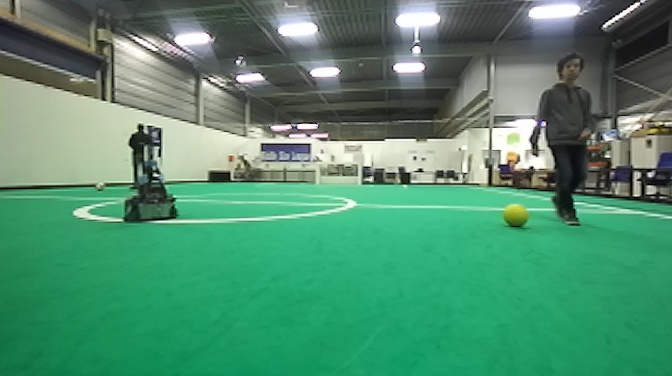ball: (500, 200, 531, 231), (91, 179, 109, 193)
goal: (315, 159, 363, 188)
goalpost: (357, 161, 364, 187), (316, 160, 322, 186)
human: (528, 47, 605, 231), (125, 123, 153, 196)
robot: (121, 136, 181, 226)
